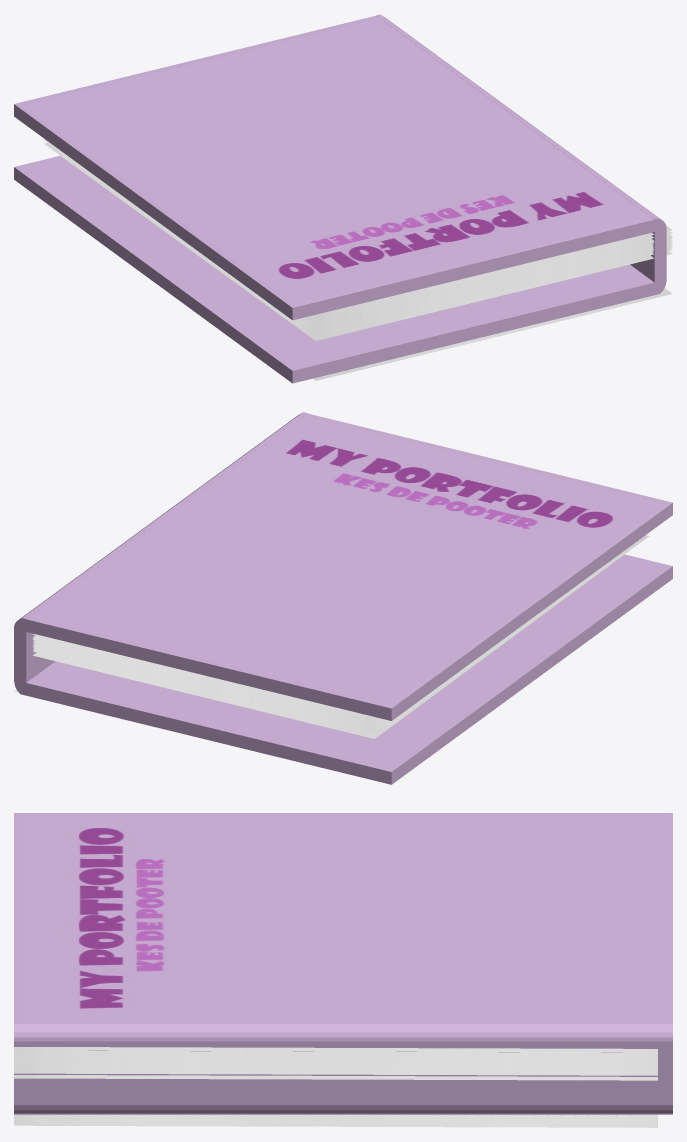
File: animated.book.final2.glb
3 renders of one model, top to bottom at view 1: azimuth 30°, elevation 25°; view 2: azimuth 150°, elevation 25°; view 3: azimuth 270°, elevation 25°, orthographic. The views are drawn at different scales.
Visible parts, largest first — view 1: left, right, Plane.033, Cube, Plane, Plane.038, Plane.044, Plane.041, Plane.034, Plane.040, Plane.029, Plane.037 (+4 smaller); view 2: left, right, Cube, Plane.033, Plane.044, Plane.041, Plane.040, Plane.037, Plane.029, Plane.043, Plane.038, Plane.042 (+2 smaller); view 3: left, Cube, Plane, Plane.038, Plane.033, Plane.034, Plane.044, Plane.029, Plane.040, Plane.043, Plane.037, Plane.041 (+3 smaller).
Boxes of the visible parts, x1,y1,x2,y2 form: left: [14, 15, 654, 320]; right: [14, 156, 654, 383]; Plane.033: [44, 142, 672, 340]; Cube: [376, 14, 666, 294]; Plane: [313, 288, 672, 380]; Plane.038: [310, 231, 672, 320]; Plane.044: [307, 234, 672, 323]; Plane.041: [44, 139, 672, 336]; Plane.034: [313, 225, 672, 317]; Plane.040: [295, 246, 672, 334]; Plane.029: [303, 239, 672, 327]; Plane.037: [298, 243, 672, 331]; left: [26, 413, 672, 720]; right: [26, 554, 672, 784]; Cube: [14, 412, 307, 695]; Plane.033: [33, 535, 648, 738]; Plane.044: [33, 636, 378, 721]; Plane.041: [33, 599, 557, 734]; Plane.040: [33, 648, 389, 732]; Plane.037: [33, 645, 387, 729]; Plane.029: [33, 640, 382, 725]; Plane.043: [33, 642, 384, 727]; Plane.038: [33, 634, 375, 718]; Plane.042: [33, 646, 388, 730]; left: [14, 813, 672, 1021]; Cube: [14, 1021, 672, 1114]; Plane: [14, 1114, 657, 1127]; Plane.038: [14, 1050, 657, 1056]; Plane.033: [14, 1075, 657, 1080]; Plane.034: [14, 1047, 657, 1052]; Plane.044: [14, 1054, 657, 1059]; Plane.029: [14, 1060, 657, 1064]; Plane.040: [14, 1068, 657, 1073]; Plane.043: [14, 1062, 657, 1067]; Plane.037: [14, 1065, 657, 1069]; Plane.041: [14, 1071, 657, 1075].
Size of the model in its own units: 1.58 by 0.3199 by 2.
Materials: 3 (2 with a texture image).
